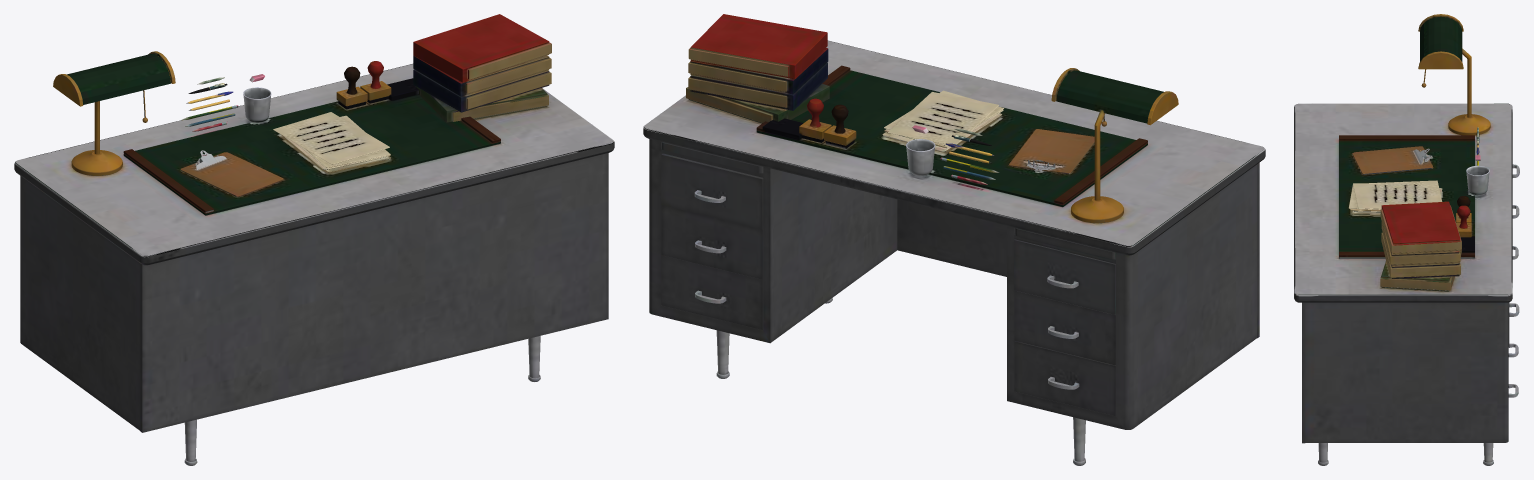
File: registrar_desk.glb
The picture shows the model from 3 angles, left to right: view 1: azimuth 30°, elevation 25°; view 2: azimuth 150°, elevation 25°; view 3: azimuth 270°, elevation 25°; orthographic projection. The views are drawn at different scales.
Parts seen in each view (by area): view 1: registrar_desk; view 2: registrar_desk; view 3: registrar_desk.
Part boxes in pixels (<box>): registrar_desk: <box>14,14,614,465</box>; registrar_desk: <box>643,14,1265,465</box>; registrar_desk: <box>1294,14,1519,465</box>.
Bounding box in the file's own units: 1.6 × 1.12 × 0.7953.
Materials: 2 (2 with a texture image).
